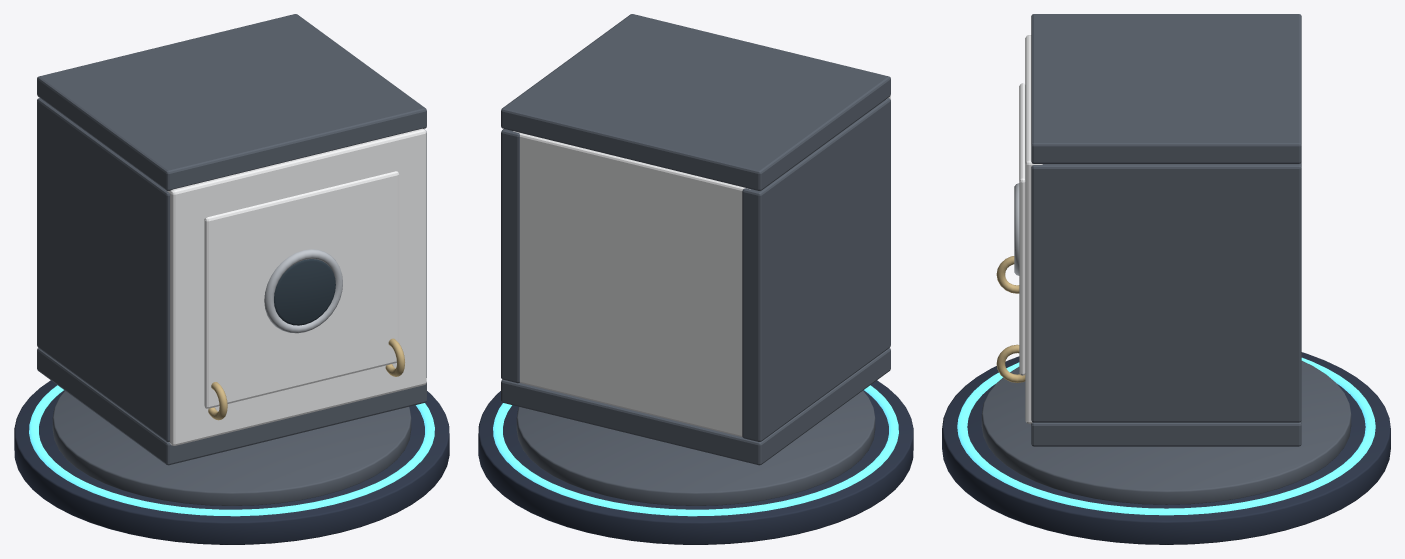
File: device_004.glb
3 views of the same model, side by side, from view 1: azimuth 30°, elevation 25°; view 2: azimuth 150°, elevation 25°; view 3: azimuth 270°, elevation 25° (orthographic). The views are drawn at different scales.
Parts seen in each view (by area): view 1: Body, AccessCover, PedestalTop, Pedestal, PedestalGlow; view 2: Body, PedestalTop, Pedestal, PedestalGlow; view 3: Body, PedestalTop, Pedestal, AccessCover, PedestalGlow.
Boxes of the visible parts, left/top/right/bottom form: Body: left=37, top=14, right=426, bottom=465; AccessCover: left=167, top=128, right=426, bottom=445; PedestalTop: left=52, top=391, right=411, bottom=505; Pedestal: left=14, top=380, right=449, bottom=544; PedestalGlow: left=29, top=385, right=434, bottom=516; Body: left=501, top=14, right=890, bottom=465; PedestalTop: left=516, top=391, right=875, bottom=505; Pedestal: left=478, top=380, right=913, bottom=544; PedestalGlow: left=493, top=385, right=898, bottom=516; Body: left=1031, top=14, right=1301, bottom=446; PedestalTop: left=981, top=361, right=1351, bottom=504; Pedestal: left=942, top=352, right=1390, bottom=544; AccessCover: left=996, top=35, right=1042, bottom=423; PedestalGlow: left=957, top=357, right=1375, bottom=515.
Bounding box in the file's own units: 1.36 × 1.24 × 1.36.
